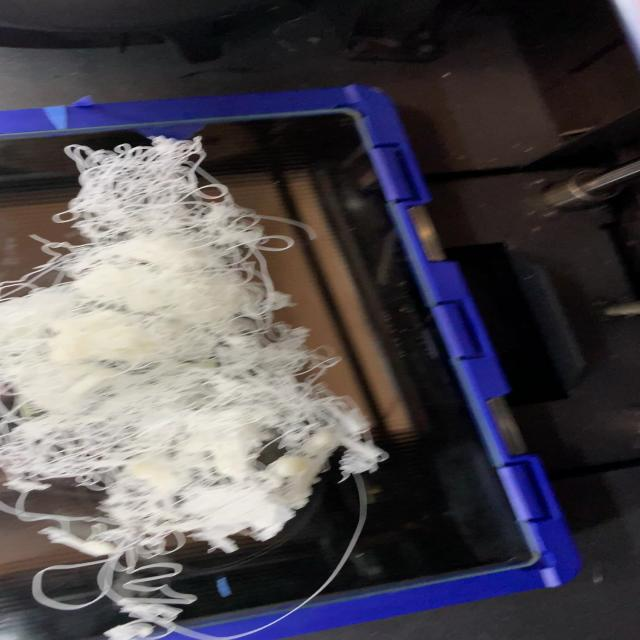spaghetti: (2, 133, 389, 635)
